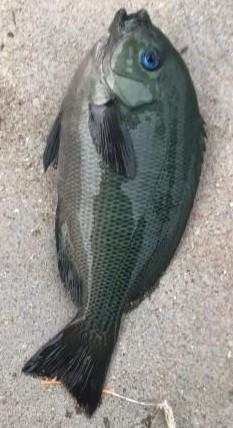fish: (22, 8, 206, 419)
